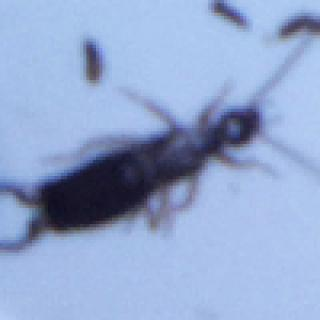earwig: (0, 35, 310, 252)
